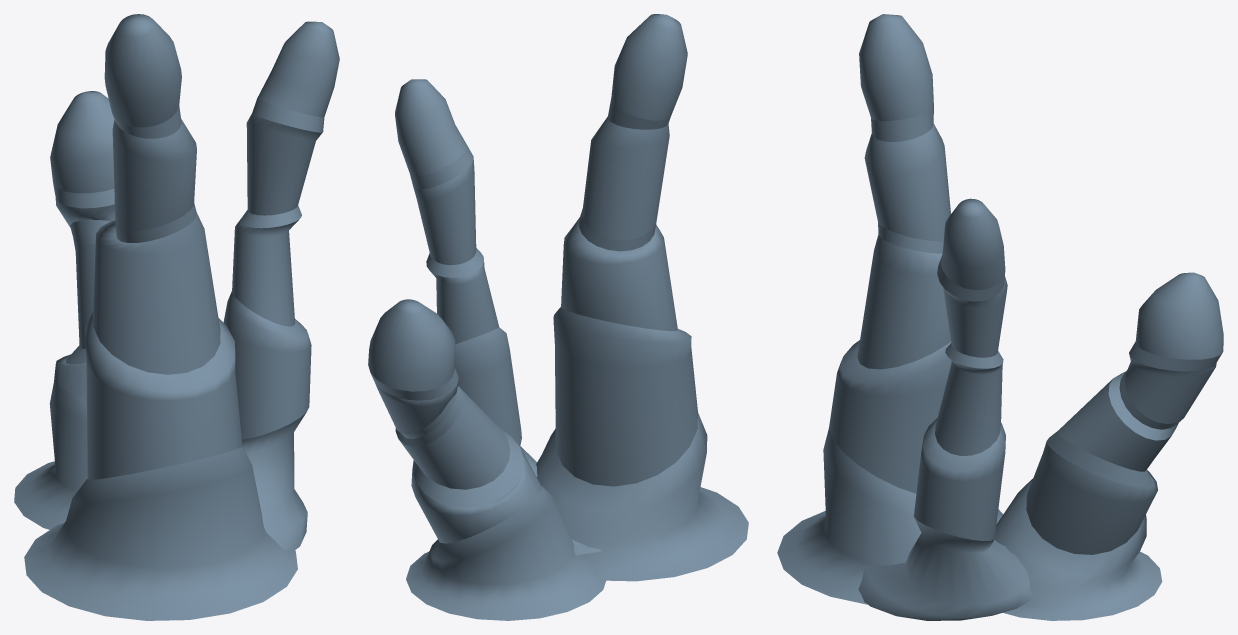
File: stalactics_B_LP1.fbx
3 views of the same model, side by side, from view 1: azimuth 30°, elevation 25°; view 2: azimuth 150°, elevation 25°; view 3: azimuth 270°, elevation 25° (orthographic). The views are drawn at different scales.
Parts seen in each view (by area): view 1: stalactics_B_LP1; view 2: stalactics_B_LP1; view 3: stalactics_B_LP1.
Part boxes in pixels (bbox=[...]): stalactics_B_LP1: bbox=[14, 14, 339, 620]; stalactics_B_LP1: bbox=[368, 14, 748, 620]; stalactics_B_LP1: bbox=[777, 14, 1223, 620].
Bounding box in the file's own units: 116 × 190 × 146.
